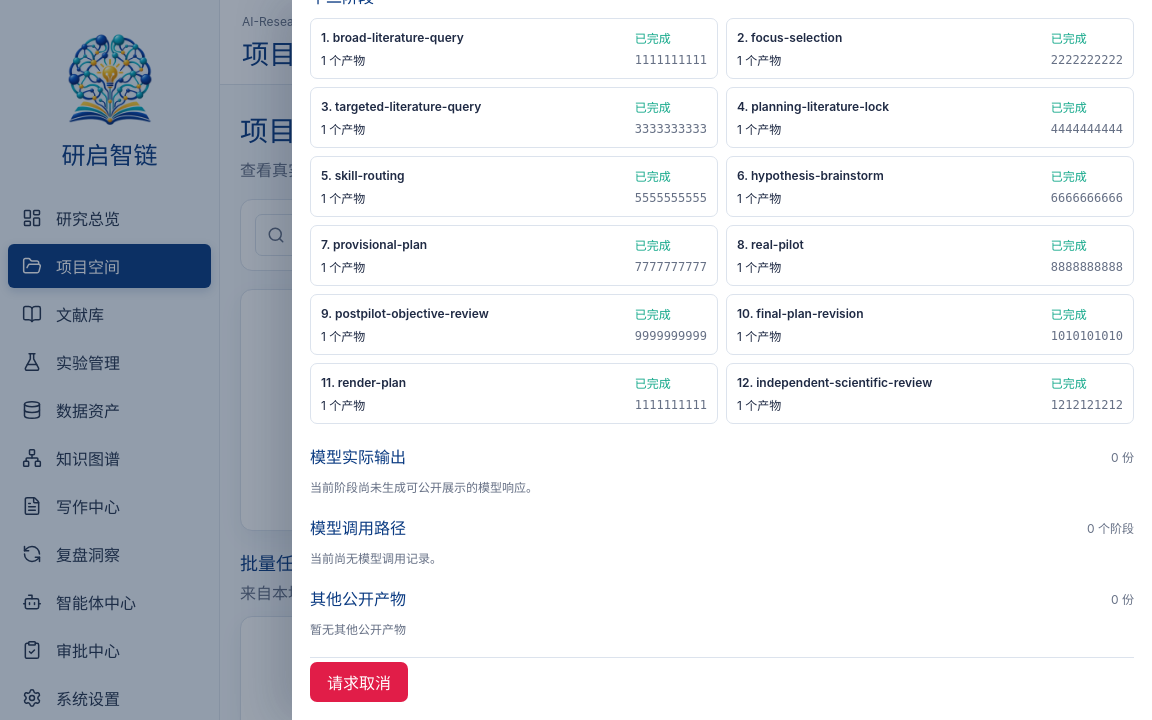
keeps rejected cancellation open and never announces success
(page scrolled)
Click the button "请求取消": [359, 682] box [310,662,408,702]
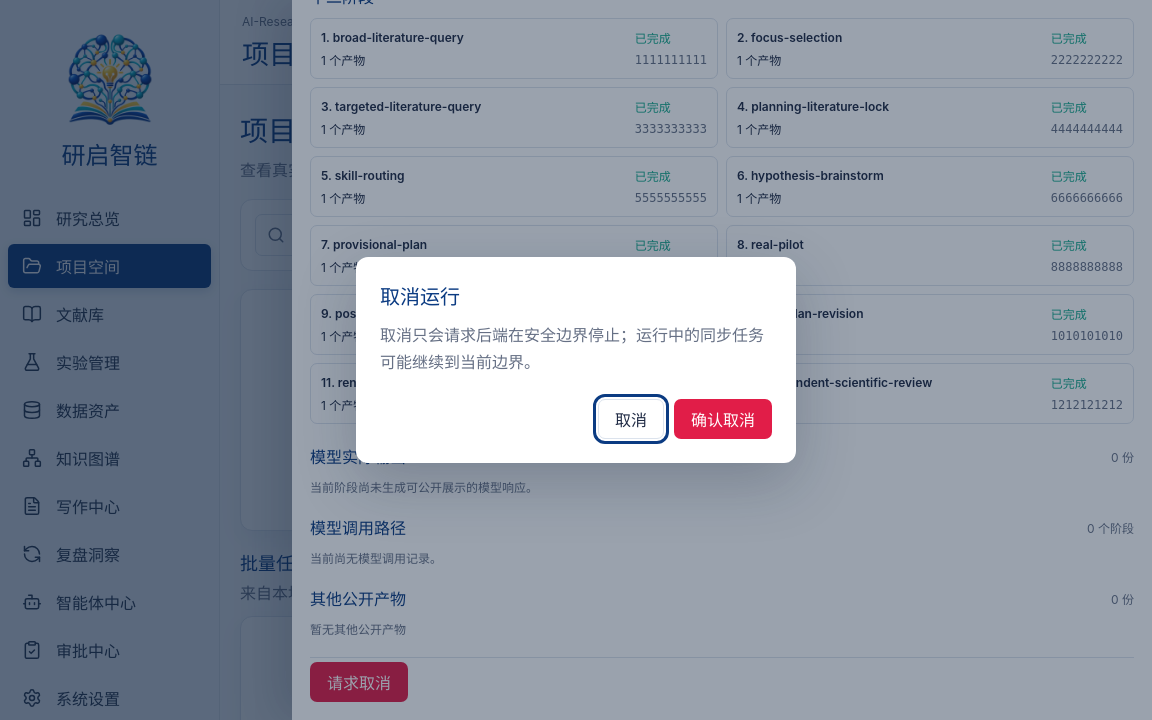
Click the button "确认取消": [723, 419] box [674,399,772,439]
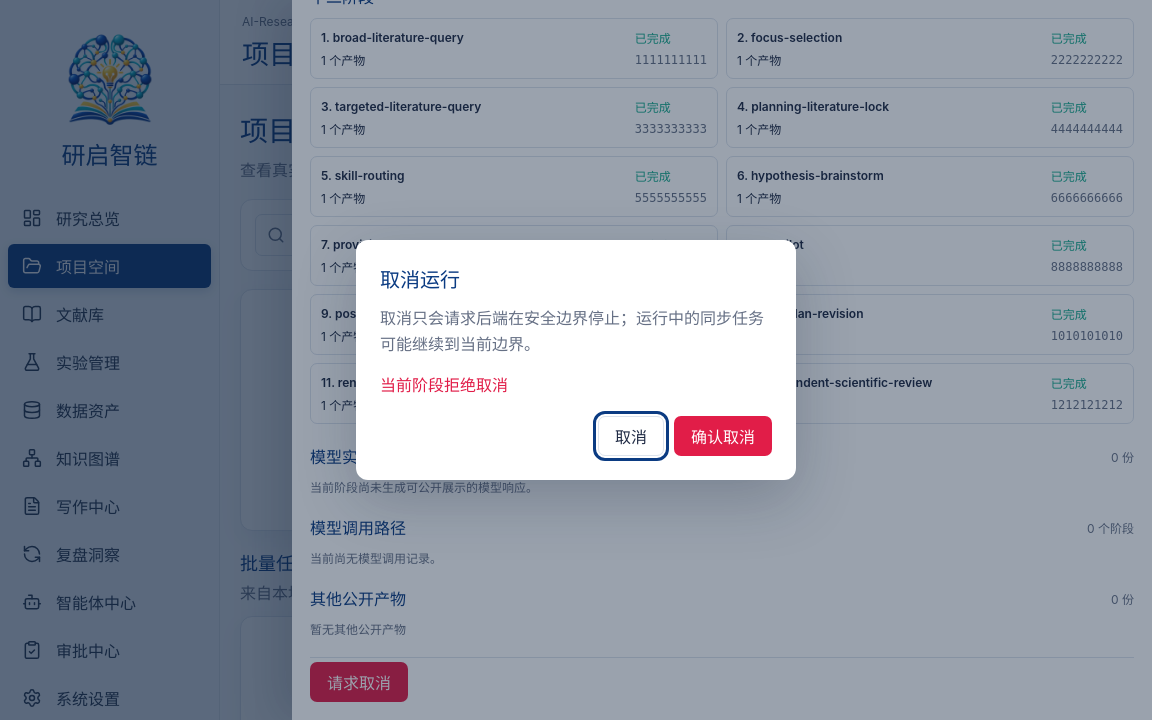
Now the dialog "取消运行" is shown, box [356,240,796,480]
Now the message reads "当前阶段拒绝取消", box [380,375,508,395]
